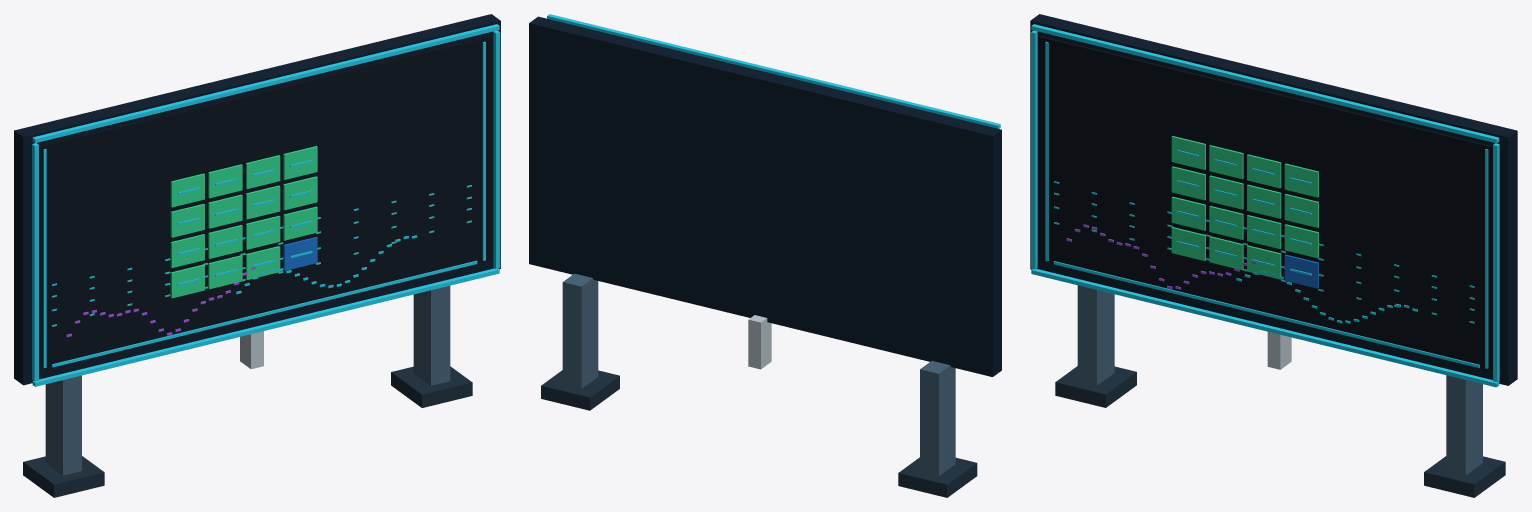
The model's file is 54_L74_HolographicLithographySCADAMonitor.fbx.
The picture shows the model from 3 angles, left to right: view 1: azimuth 30°, elevation 25°; view 2: azimuth 150°, elevation 25°; view 3: azimuth 330°, elevation 25°; orthographic projection. The views are drawn at different scales.
Parts seen in each view (by area): view 1: HolographicLithographySCADAMonitor_Part_0056, HolographicLithographySCADAMonitor_Part_0000, HolographicLithographySCADAMonitor, HolographicLithographySCADAMonitor_Part_0137, HolographicLithographySCADAMonitor_Part_0136, HolographicLithographySCADAMonitor_Part_0001, HolographicLithographySCADAMonitor_Part_0135, HolographicLithographySCADAMonitor_Part_0054, HolographicLithographySCADAMonitor_Part_0134, HolographicLithographySCADAMonitor_Part_0063, HolographicLithographySCADAMonitor_Part_0065, HolographicLithographySCADAMonitor_Part_0071 (+16 smaller); view 2: HolographicLithographySCADAMonitor_Part_0000, HolographicLithographySCADAMonitor, HolographicLithographySCADAMonitor_Part_0137, HolographicLithographySCADAMonitor_Part_0055; view 3: HolographicLithographySCADAMonitor_Part_0056, HolographicLithographySCADAMonitor_Part_0000, HolographicLithographySCADAMonitor, HolographicLithographySCADAMonitor_Part_0137, HolographicLithographySCADAMonitor_Part_0136, HolographicLithographySCADAMonitor_Part_0054, HolographicLithographySCADAMonitor_Part_0134, HolographicLithographySCADAMonitor_Part_0135, HolographicLithographySCADAMonitor_Part_0001, HolographicLithographySCADAMonitor_Part_0067, HolographicLithographySCADAMonitor_Part_0059, HolographicLithographySCADAMonitor_Part_0065 (+16 smaller).
Part boxes in pixels (box(x1,y1,x2,y2)): HolographicLithographySCADAMonitor_Part_0056: box(39, 37, 485, 369); HolographicLithographySCADAMonitor_Part_0000: box(14, 14, 500, 385); HolographicLithographySCADAMonitor: box(23, 285, 472, 497); HolographicLithographySCADAMonitor_Part_0137: box(32, 24, 499, 143); HolographicLithographySCADAMonitor_Part_0136: box(32, 268, 499, 386); HolographicLithographySCADAMonitor_Part_0001: box(39, 35, 492, 369); HolographicLithographySCADAMonitor_Part_0135: box(493, 30, 500, 268); HolographicLithographySCADAMonitor_Part_0054: box(51, 260, 477, 367); HolographicLithographySCADAMonitor_Part_0134: box(32, 143, 38, 381); HolographicLithographySCADAMonitor_Part_0063: box(170, 264, 204, 298); HolographicLithographySCADAMonitor_Part_0065: box(208, 164, 242, 198); HolographicLithographySCADAMonitor_Part_0071: box(208, 255, 242, 289); HolographicLithographySCADAMonitor_Part_0000: box(529, 16, 1001, 376); HolographicLithographySCADAMonitor: box(541, 273, 977, 497); HolographicLithographySCADAMonitor_Part_0137: box(547, 14, 1000, 128); HolographicLithographySCADAMonitor_Part_0055: box(748, 315, 771, 369); HolographicLithographySCADAMonitor_Part_0056: box(1039, 36, 1489, 368); HolographicLithographySCADAMonitor_Part_0000: box(1030, 14, 1517, 385); HolographicLithographySCADAMonitor: box(1055, 285, 1505, 497); HolographicLithographySCADAMonitor_Part_0137: box(1031, 24, 1499, 143); HolographicLithographySCADAMonitor_Part_0136: box(1031, 268, 1499, 387); HolographicLithographySCADAMonitor_Part_0054: box(1053, 261, 1479, 367); HolographicLithographySCADAMonitor_Part_0134: box(1031, 30, 1037, 269); HolographicLithographySCADAMonitor_Part_0135: box(1493, 143, 1499, 381); HolographicLithographySCADAMonitor_Part_0001: box(1039, 35, 1492, 370); HolographicLithographySCADAMonitor_Part_0067: box(1209, 175, 1243, 209); HolographicLithographySCADAMonitor_Part_0059: box(1171, 166, 1205, 200); HolographicLithographySCADAMonitor_Part_0065: box(1209, 145, 1243, 179).
Size of the model in its own units: 445 by 326 by 54.1.
